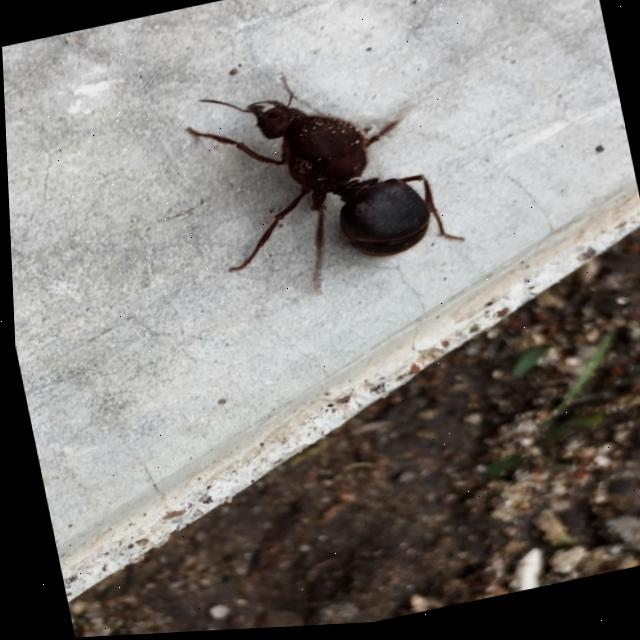Alive-Female-Dealate: (178, 54, 469, 319)
